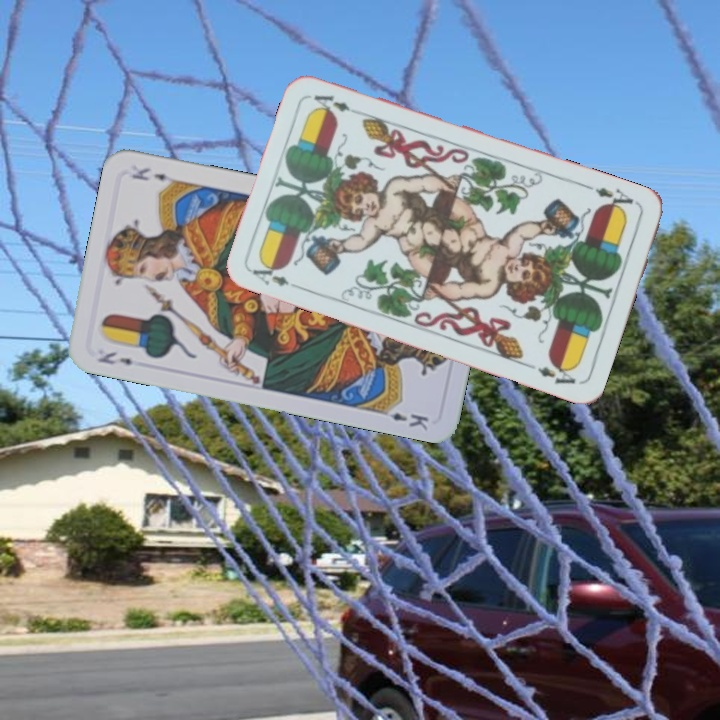EA: (248, 257, 305, 292), (591, 183, 641, 215)
EK: (94, 347, 135, 368)
